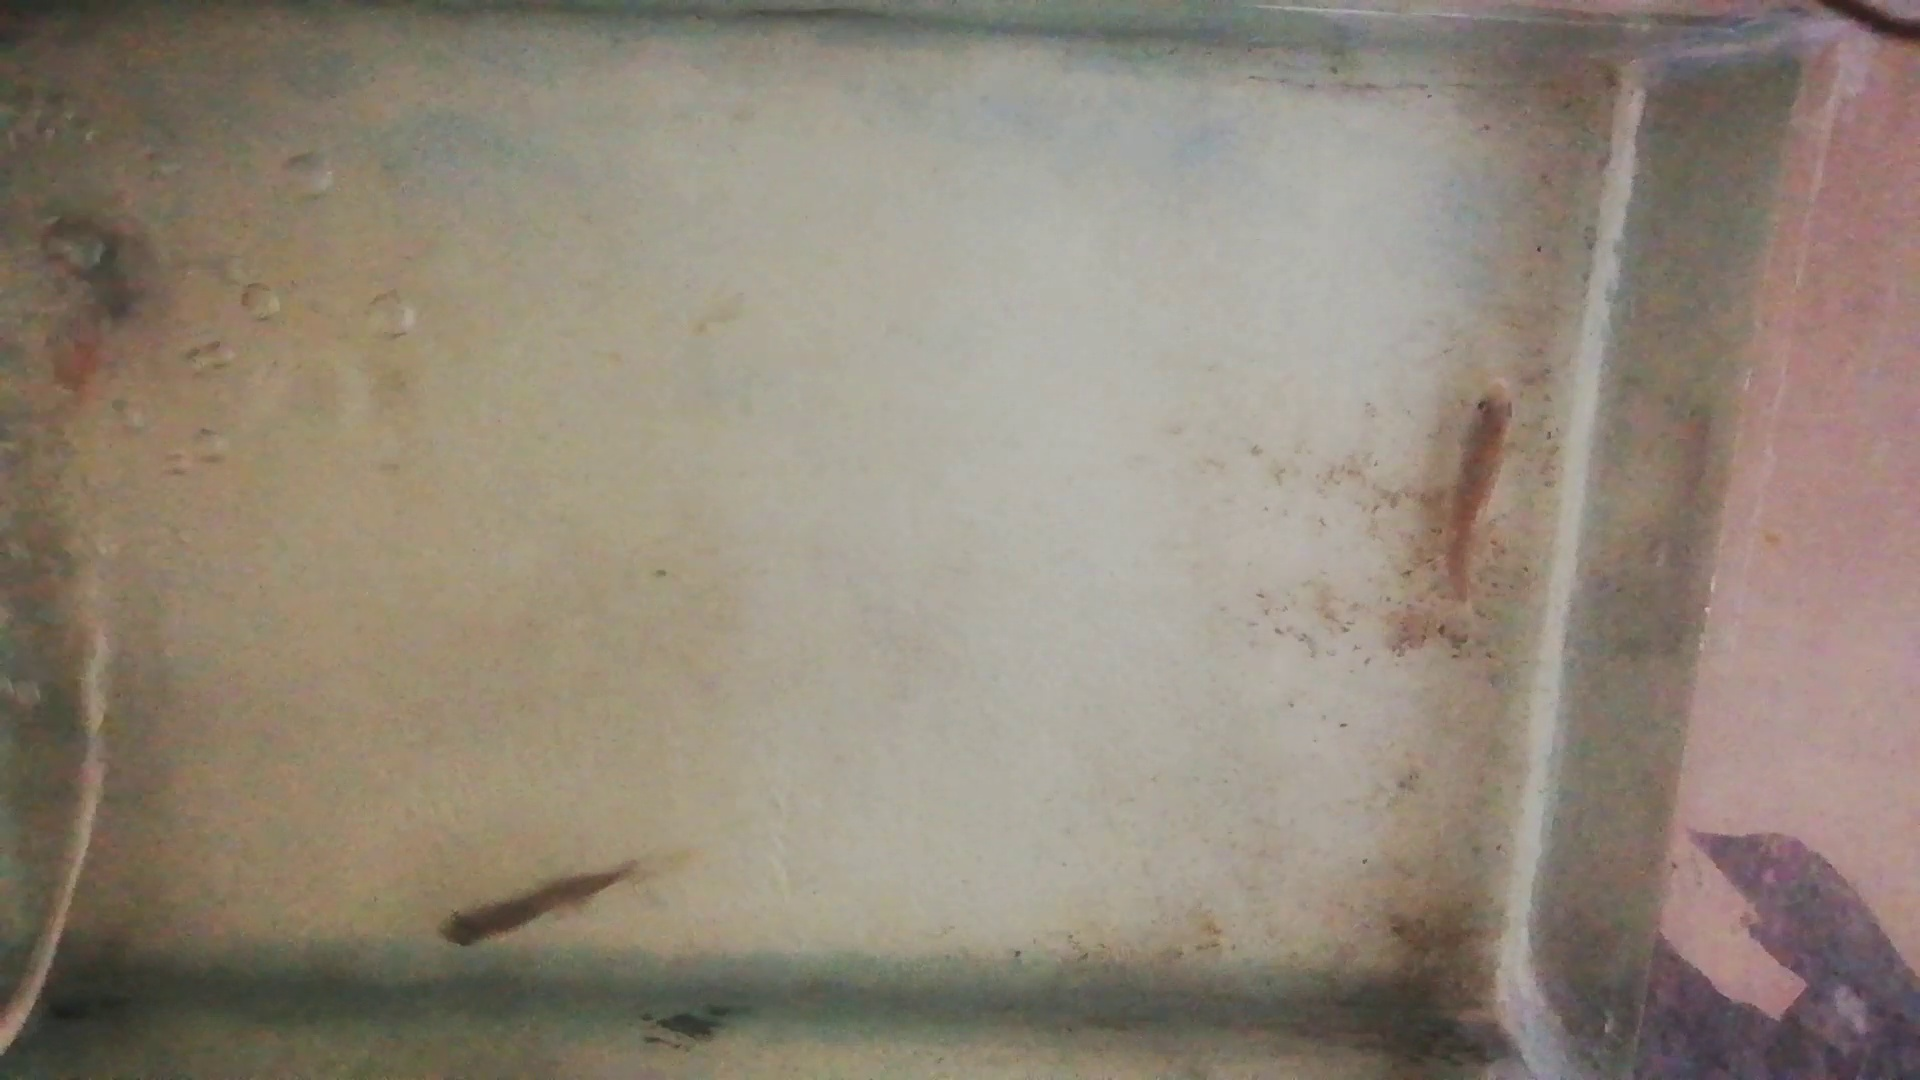fish: (439, 862, 630, 948), (1451, 378, 1516, 605)
